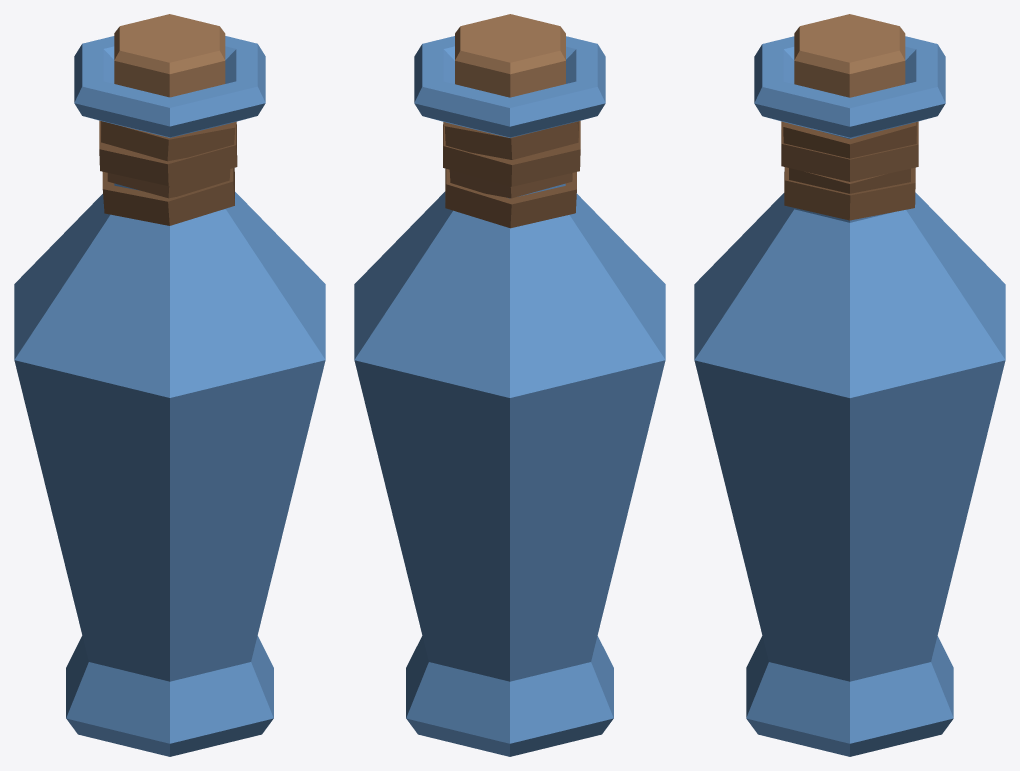
File: Blue_Potion_8(String).fbx
3 renders of one model, left to right at view 1: azimuth 30°, elevation 25°; view 2: azimuth 150°, elevation 25°; view 3: azimuth 270°, elevation 25°, orthographic.
Visible parts, largest first — view 1: Blue_Potion_8(String); view 2: Blue_Potion_8(String); view 3: Blue_Potion_8(String).
Part boxes in pixels (box(x1,y1,x2,y2)): Blue_Potion_8(String): box(14, 14, 325, 756); Blue_Potion_8(String): box(354, 14, 665, 756); Blue_Potion_8(String): box(694, 14, 1005, 756).
Bounding box in the file's own units: 16.45 × 34.03 × 14.25.
